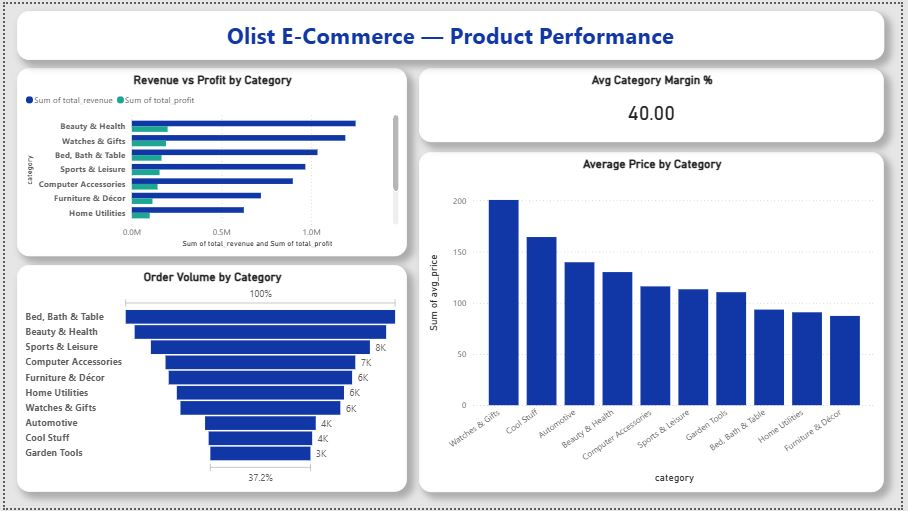

What the dashboard file says about the page in this screenshot:
{"tool":"powerbi","page":{"name":"Product Performance","canvas":[1280,720],"ordinal":2},"visuals":[{"type":"clusteredBarChart","title":"Revenue vs Profit by Category","fields":{"Category":["category_revenue.category"],"Y":["Sum(category_revenue.total_revenue)","Sum(category_revenue.total_profit)"]},"box":[17.1,91.4,557.1,268.6],"z":0},{"type":"clusteredColumnChart","title":"Average Price by Category","fields":{"Category":["category_revenue.category"],"Y":["Sum(category_revenue.avg_price)"]},"box":[591.4,211.4,664.3,485.7],"z":1000},{"type":"funnel","title":"Order Volume by Category","fields":{"Category":["category_revenue.category"],"Y":["Sum(category_revenue.total_orders)"]},"box":[17.1,372.9,557.1,324.3],"z":2000},{"type":"card","title":"Avg Category Margin %","fields":{"Values":["Avg(category_revenue.margin_pct)"]},"box":[591.4,91.4,664.3,105.7],"z":3000},{"type":"textbox","box":[17.1,10,1238.6,70],"z":4000}]}

Visuals, with their boxes in screenshot pixels (x1, y1, x2, y2), scaled from the page's 1280x720 canvas onto the 908x511 screenshot:
"Revenue vs Profit by Category" clusteredBarChart: box=[12, 65, 407, 256]
"Average Price by Category" clusteredColumnChart: box=[420, 150, 891, 495]
"Order Volume by Category" funnel: box=[12, 265, 407, 495]
"Avg Category Margin %" card: box=[420, 65, 891, 140]
textbox: box=[12, 7, 891, 57]
